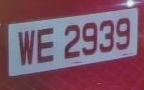2: (62, 19, 82, 64)
3: (98, 18, 117, 57)
9: (81, 19, 100, 60), (115, 16, 133, 54)
E: (35, 24, 58, 70)
W: (15, 26, 37, 72)
